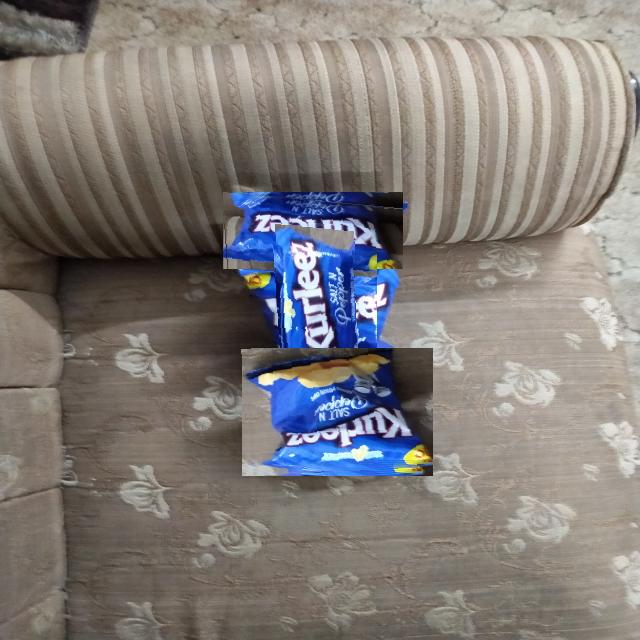Plastic: (242, 348, 434, 476), (249, 243, 377, 372), (222, 191, 403, 269)
